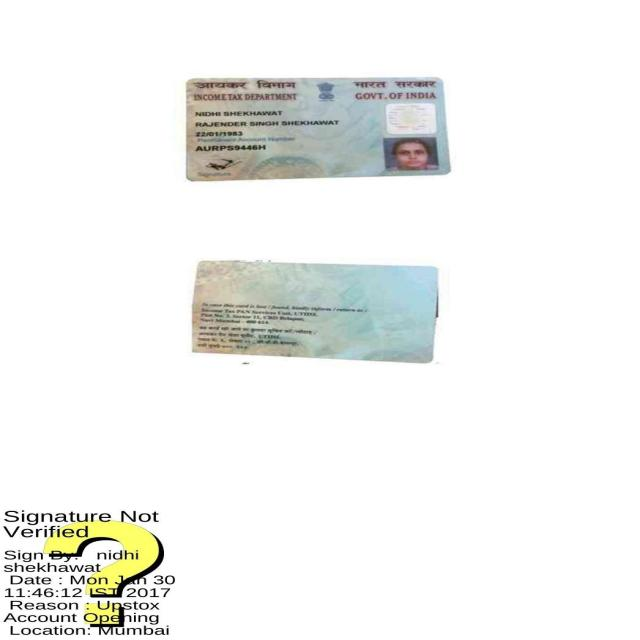pan_card: (182, 75, 451, 182), (190, 256, 439, 362)
